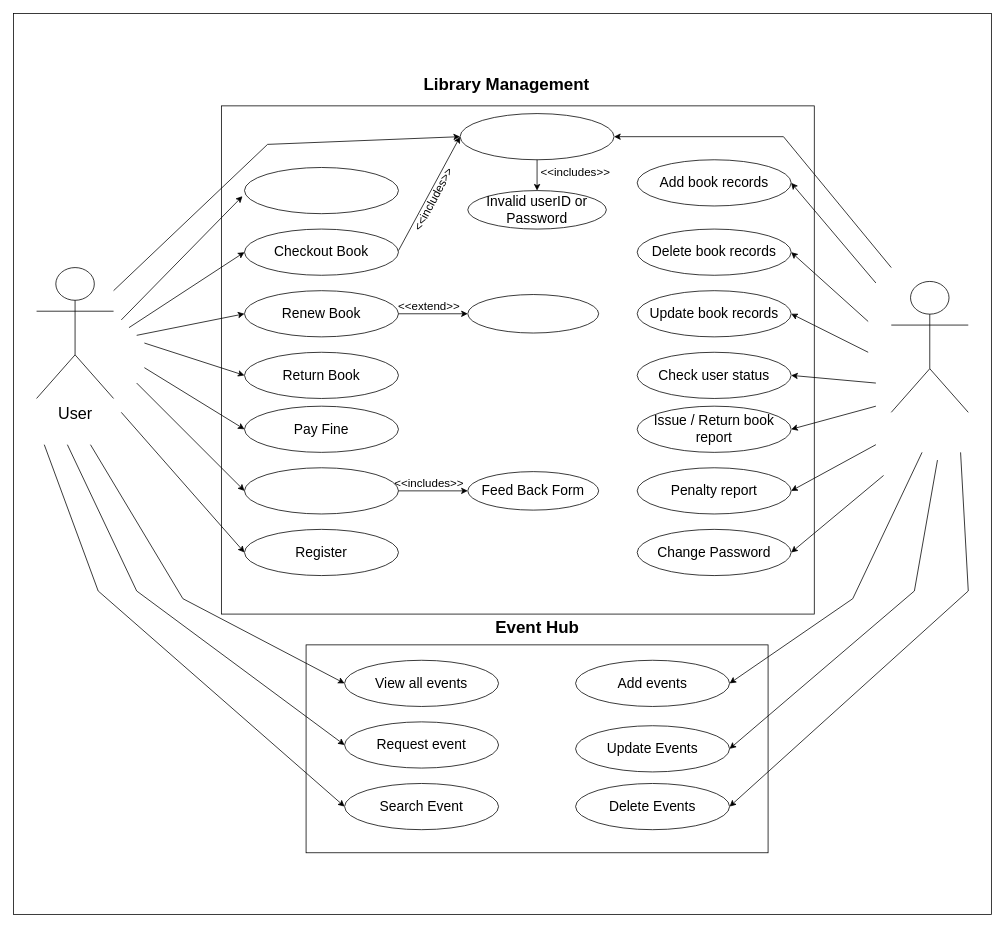
This 1005x928 diagram has some shape labels left out. Here are the shapes that lost their labels. From the top down, the centre of each, then its label:
At (x=536, y=136): "Login".
At (x=321, y=190): "Search book".
At (x=533, y=313): "Invalid to book".
At (x=929, y=346): "Admin".
At (x=321, y=490): "Reviews".
